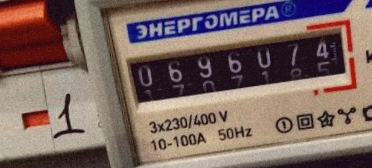0: (132, 60, 154, 87), (253, 42, 272, 69)
4: (310, 34, 329, 58)
5: (314, 59, 332, 76)
6: (224, 46, 244, 74), (164, 56, 184, 82)
7: (282, 39, 303, 66)
9: (193, 51, 213, 79)
screen: (114, 13, 361, 115)
